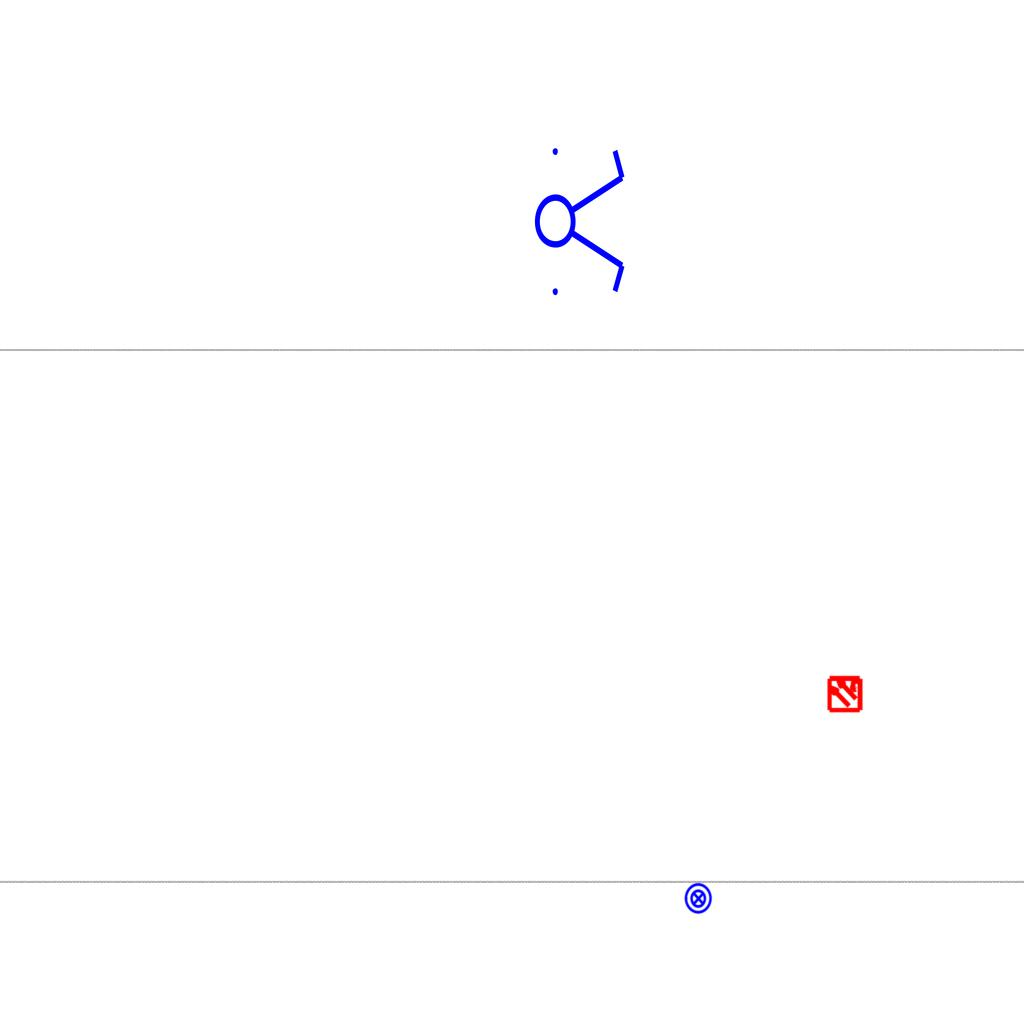OT_Multisensormelder_(Kombination_RMO_WMD): (817, 665, 873, 721)
Serienschalter: (533, 136, 629, 304)
Taster_beleuchtet: (682, 882, 715, 915)
